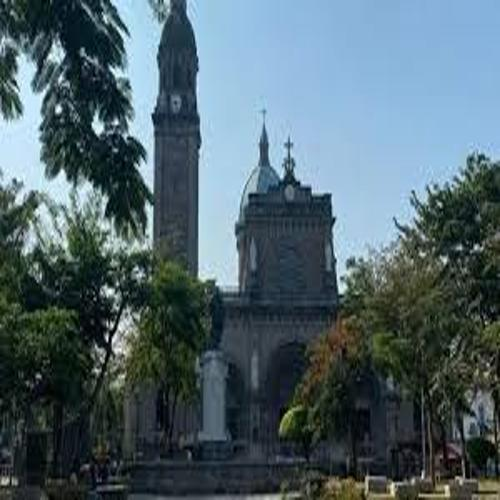Manila Cathedral Church: (121, 4, 387, 455)
